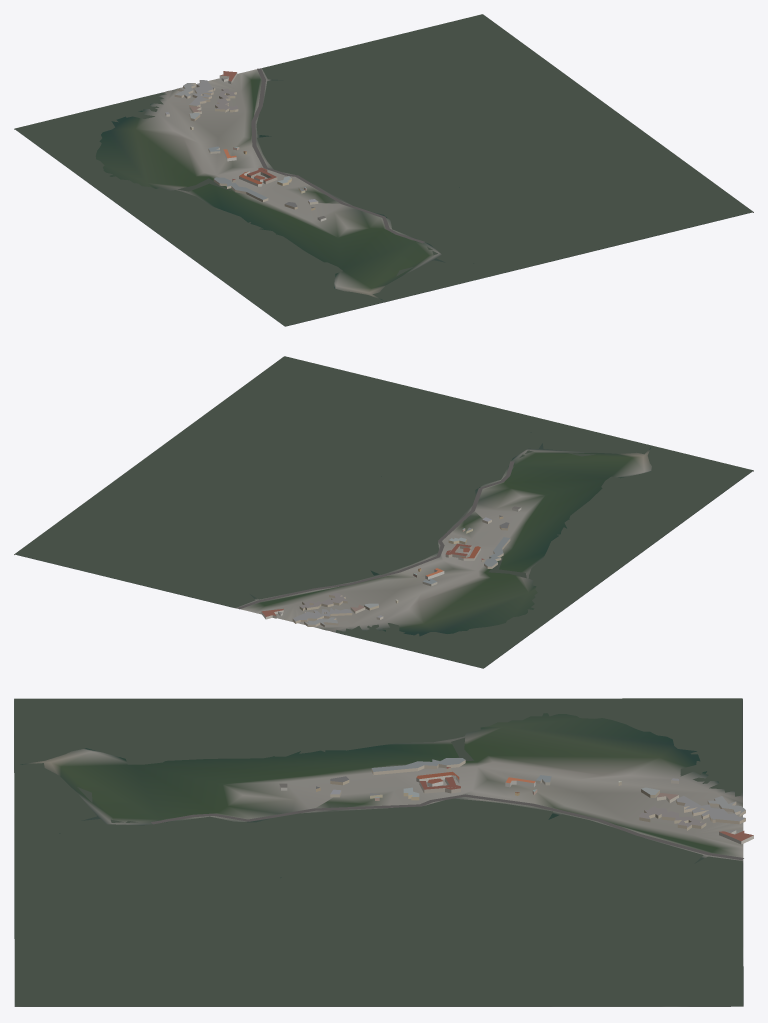
3 renders of one model, top to bottom at view 1: azimuth 30°, elevation 25°; view 2: azimuth 150°, elevation 25°; view 3: azimuth 270°, elevation 25°, orthographic. The views are drawn at different scales.
Parts seen in each view (by area): view 1: water, ground, buildings, roads; view 2: water, ground, buildings, roads; view 3: water, ground, buildings, roads.
Part boxes in pixels (box(x1,y1,x2,y2)): water: box(15, 14, 752, 326); ground: box(14, 14, 753, 326); buildings: box(165, 71, 326, 221); roads: box(251, 68, 424, 243); water: box(15, 356, 752, 668); ground: box(14, 357, 753, 668); buildings: box(261, 506, 521, 626); roads: box(237, 461, 514, 609); water: box(14, 698, 742, 1006); ground: box(14, 698, 743, 1006); buildings: box(279, 758, 753, 844); roads: box(151, 794, 743, 860).
Size of the model in its own units: 1403 by 12.32 by 1422.
